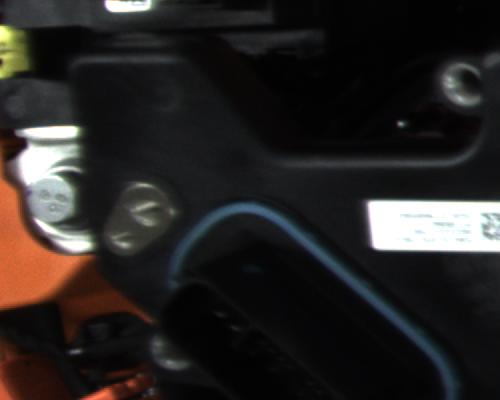nut_b: (27, 163, 85, 238)
